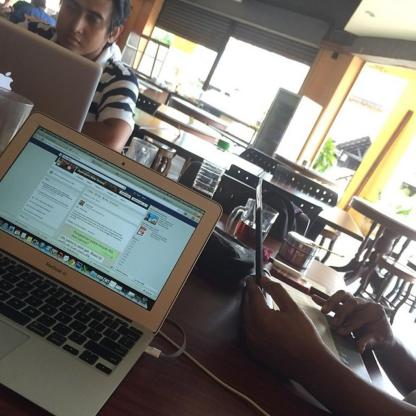board: (0, 115, 203, 416), (0, 17, 103, 131)
